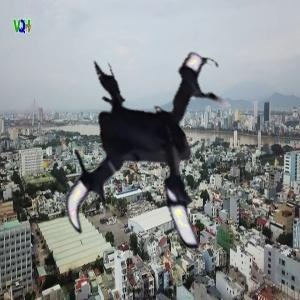drone: (31, 22, 271, 262)
